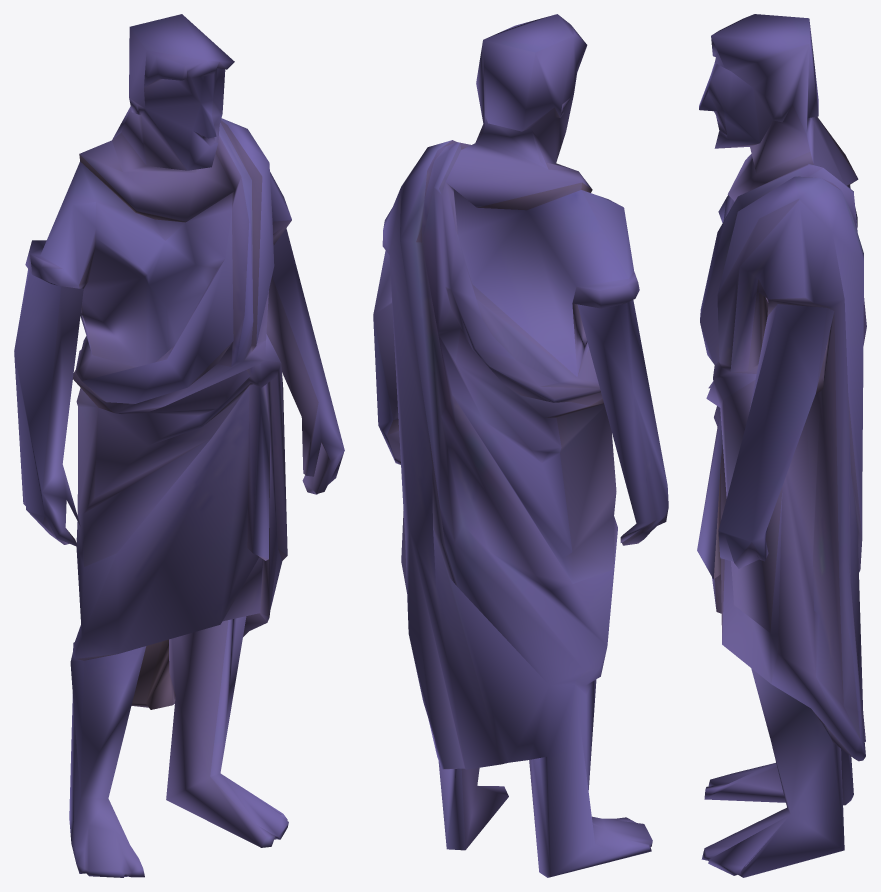
File: model.progressive.glb
3 views of the same model, side by side, from view 1: azimuth 30°, elevation 25°; view 2: azimuth 150°, elevation 25°; view 3: azimuth 270°, elevation 25° (orthographic).
Parts seen in each view (by area): view 1: material; view 2: material; view 3: material.
Part boxes in pixels (x1,y1,x2,y2): material: [14, 14, 344, 877]; material: [373, 14, 668, 877]; material: [697, 14, 866, 877].
Bounding box in the file's own units: 0.7186 × 1.86 × 0.3574.
Materials: 1 (1 with a texture image).
